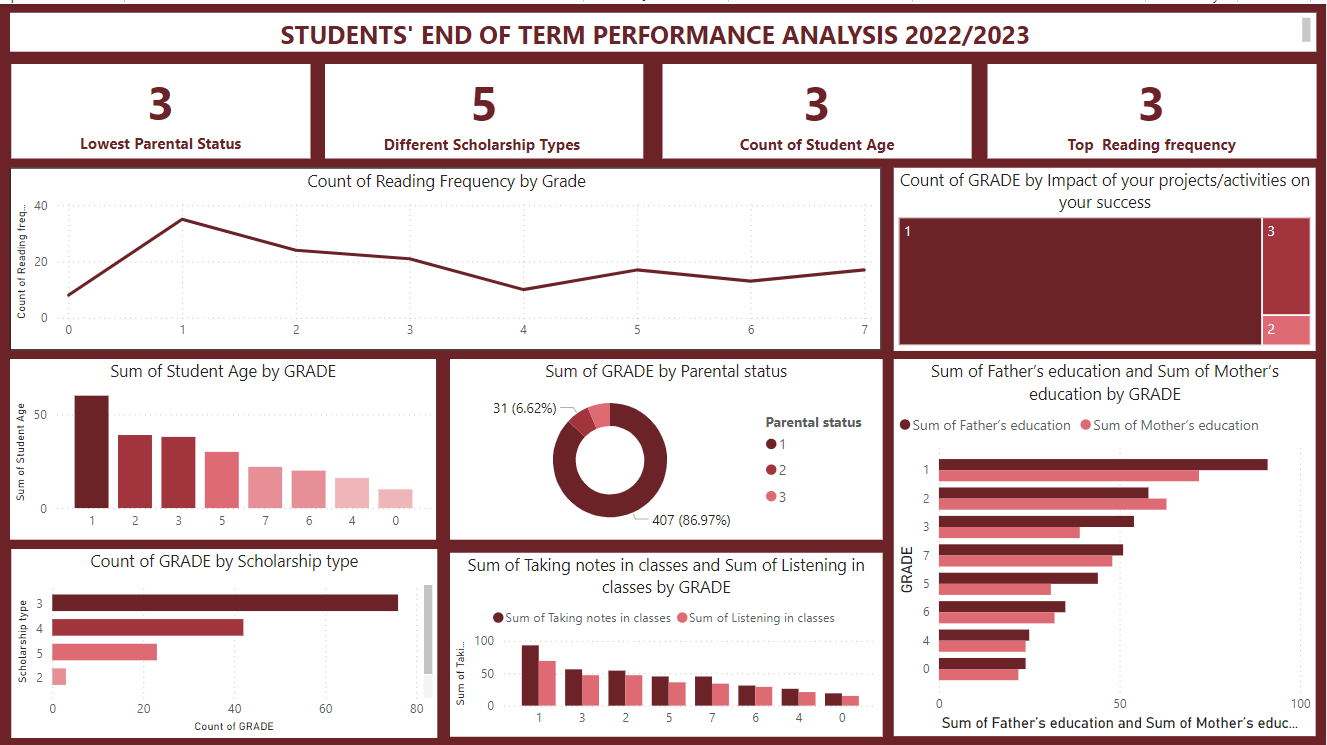

Layout of this report page (visuals, bound fields, positions):
{"tool":"powerbi","page":{"name":"ANALYTICAL DASHBOARD","canvas":[1280,720],"ordinal":0},"visuals":[{"type":"textbox","box":[9.3,8.1,1260.5,37.2],"z":0},{"type":"lineChart","title":"Count of Reading Frequency by Grade","fields":{"Y":["Sum(StudentsPerformance_with_headers.Reading frequency_1)","Sum(StudentsPerformance_with_headers.Weekly study hours)"],"Category":["StudentsPerformance_with_headers.GRADE"]},"box":[9.7,158,840.9,176.1],"z":1000},{"type":"donutChart","fields":{"Category":["StudentsPerformance_with_headers.Parental status"],"Y":["CountNonNull(StudentsPerformance_with_headers.GRADE)"]},"box":[434.6,343.2,417.3,174.1],"z":2000},{"type":"clusteredColumnChart","fields":{"Category":["StudentsPerformance_with_headers.GRADE"],"Y":["select","Sum(StudentsPerformance_with_headers.Student Age)"]},"box":[9.9,343.2,411.1,174.1],"z":3000},{"type":"clusteredBarChart","fields":{"Category":["StudentsPerformance_with_headers.Scholarship type"],"Y":["CountNonNull(StudentsPerformance_with_headers.STUDENT ID)"]},"box":[10.9,529.6,411.4,176.1],"z":4000},{"type":"clusteredColumnChart","fields":{"Category":["StudentsPerformance_with_headers.GRADE"],"Y":["Sum(StudentsPerformance_with_headers.Taking notes in classes)","Sum(StudentsPerformance_with_headers.Listening in classes)"]},"box":[434.6,529.6,417.3,177.8],"z":5000},{"type":"treemap","fields":{"Values":["CountNonNull(StudentsPerformance_with_headers.GRADE)"],"Group":["StudentsPerformance_with_headers.Impact of your projects/activities on your success"]},"box":[863,158,407.4,176.5],"z":6000},{"type":"clusteredBarChart","fields":{"Category":["StudentsPerformance_with_headers.GRADE"],"Y":["Sum(StudentsPerformance_with_headers.Father’s education )","Sum(StudentsPerformance_with_headers.Mother’s education)"]},"box":[863,343.2,407.4,364.2],"z":7000},{"type":"card","fields":{"Values":["Count(StudentsPerformance_with_headers.Parental status)"]},"box":[11.1,58,288.9,91.4],"z":8000},{"type":"card","fields":{"Values":["Count(StudentsPerformance_with_headers.Scholarship type)"]},"box":[313.6,58,307.4,91.4],"z":9000},{"type":"card","fields":{"Values":["Count(StudentsPerformance_with_headers.Reading frequency)"]},"box":[953.1,58,317.3,91.4],"z":10000},{"type":"card","fields":{"Values":["Count(StudentsPerformance_with_headers.Student Age)"]},"box":[639.5,58,298.8,91.4],"z":11000}]}

Visuals, with their boxes in screenshot pixels (x1, y1, x2, y2), scaled from the page's 1280x720 canvas onto the 1327x745 screenshot:
textbox: (10, 8, 1316, 47)
"Count of Reading Frequency by Grade" lineChart: (10, 163, 882, 346)
donutChart - StudentsPerformance_with_headers.Parental status x CountNonNull(StudentsPerformance_with_headers.GRADE): (451, 355, 883, 535)
clusteredColumnChart - StudentsPerformance_with_headers.GRADE x select: (10, 355, 436, 535)
clusteredBarChart - StudentsPerformance_with_headers.Scholarship type x CountNonNull(StudentsPerformance_with_headers.STUDENT ID): (11, 548, 438, 730)
clusteredColumnChart - StudentsPerformance_with_headers.GRADE x Sum(StudentsPerformance_with_headers.Taking notes in classes): (451, 548, 883, 732)
treemap - CountNonNull(StudentsPerformance_with_headers.GRADE) x StudentsPerformance_with_headers.Impact of your projects/activities on your success: (895, 163, 1317, 346)
clusteredBarChart - StudentsPerformance_with_headers.GRADE x Sum(StudentsPerformance_with_headers.Father’s education ): (895, 355, 1317, 732)
card - Count(StudentsPerformance_with_headers.Parental status): (12, 60, 311, 155)
card - Count(StudentsPerformance_with_headers.Scholarship type): (325, 60, 644, 155)
card - Count(StudentsPerformance_with_headers.Reading frequency): (988, 60, 1317, 155)
card - Count(StudentsPerformance_with_headers.Student Age): (663, 60, 973, 155)
